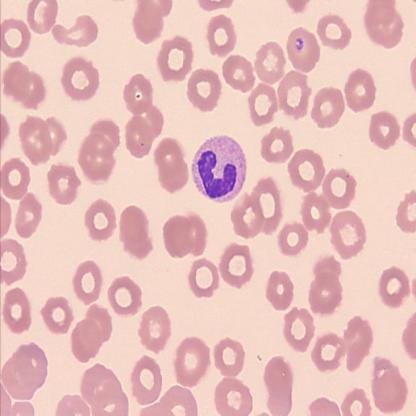Band Neutrophil: (189, 131, 248, 207)
